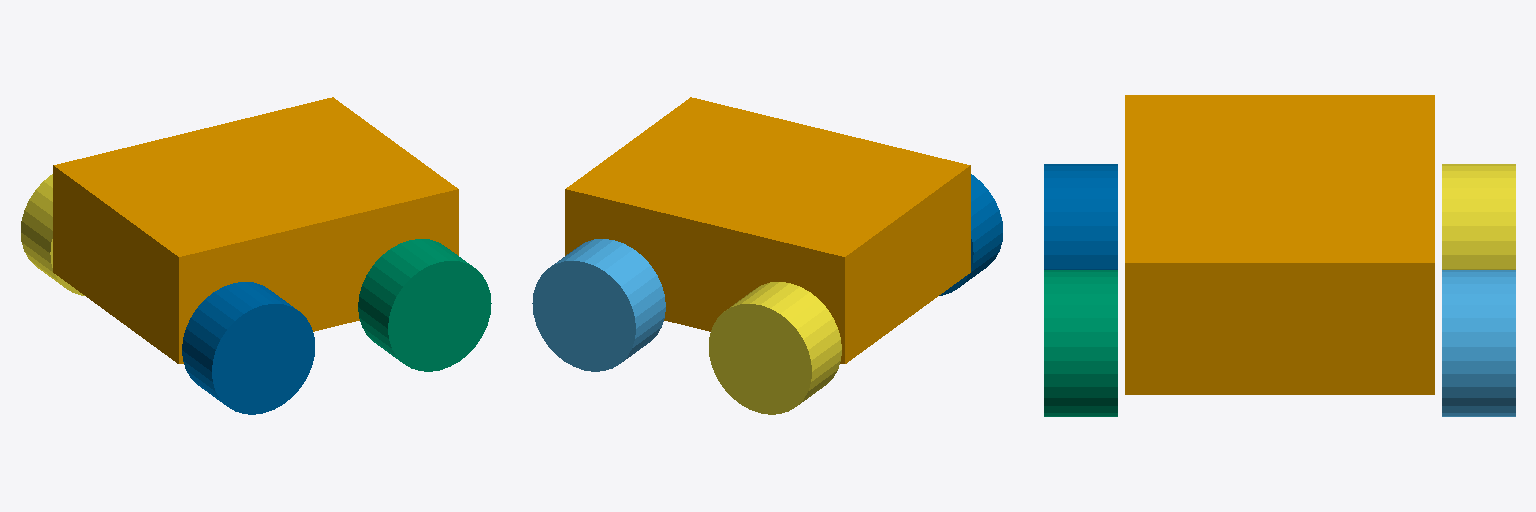
robot.urdf — rosbot_xl:
<?xml version="1.0"?>
<robot name="rosbot_xl">
  <link name="base_link">
    <visual>
      <origin xyz="0 0 0.082" rpy="0 0 0"/>
      <geometry><box size="0.27 0.21 0.099"/></geometry>
    </visual>
  </link>

  <joint name="fl_wheel_joint" type="continuous">
    <parent link="base_link"/>
    <child link="front_left_wheel"/>
    <axis xyz="0 1 0"/>
    <origin xyz="0.085 0.135 0.048" rpy="0 0 0"/>
  </joint>
  <link name="front_left_wheel">
    <visual>
      <origin xyz="0 0 0" rpy="-1.5708 0 0"/>
      <geometry><cylinder radius="0.05" length="0.05"/></geometry>
    </visual>
  </link>

  <joint name="fr_wheel_joint" type="continuous">
    <parent link="base_link"/>
    <child link="front_right_wheel"/>
    <axis xyz="0 1 0"/>
    <origin xyz="0.085 -0.135 0.048" rpy="0 0 0"/>
  </joint>
  <link name="front_right_wheel">
    <visual>
      <origin xyz="0 0 0" rpy="-1.5708 0 0"/>
      <geometry><cylinder radius="0.05" length="0.05"/></geometry>
    </visual>
  </link>

  <joint name="rl_wheel_joint" type="continuous">
    <parent link="base_link"/>
    <child link="rear_left_wheel"/>
    <axis xyz="0 1 0"/>
    <origin xyz="-0.085 0.135 0.048" rpy="0 0 0"/>
  </joint>
  <link name="rear_left_wheel">
    <visual>
      <origin xyz="0 0 0" rpy="-1.5708 0 0"/>
      <geometry><cylinder radius="0.05" length="0.05"/></geometry>
    </visual>
  </link>

  <joint name="rr_wheel_joint" type="continuous">
    <parent link="base_link"/>
    <child link="rear_right_wheel"/>
    <axis xyz="0 1 0"/>
    <origin xyz="-0.085 -0.135 0.048" rpy="0 0 0"/>
  </joint>
  <link name="rear_right_wheel">
    <visual>
      <origin xyz="0 0 0" rpy="-1.5708 0 0"/>
      <geometry><cylinder radius="0.05" length="0.05"/></geometry>
    </visual>
  </link>

  <joint name="laser_joint" type="fixed">
    <parent link="base_link"/>
    <child link="laser_link"/>
    <origin xyz="0.1 0 0.16" rpy="0 0 0"/>
  </joint>
  <link name="laser_link"/>

  <webots>
    <plugin type="webots_pkg_sim.swerve_driver.RobotDriverSwerve"/>
  </webots>
</robot>

--- Facts derived from the render (not from the file) ---
The picture shows the robot from 3 angles, left to right: view 1: azimuth 30°, elevation 25°; view 2: azimuth 150°, elevation 25°; view 3: azimuth 270°, elevation 25°; orthographic projection.
Robot: rosbot_xl — 6 links, 5 joints (4 continuous, 1 fixed); root link base_link; default pose: every joint at zero.
Links seen in each view (by area): view 1: base_link, front_right_wheel, rear_right_wheel, rear_left_wheel; view 2: base_link, front_left_wheel, rear_left_wheel, rear_right_wheel; view 3: base_link, front_left_wheel, front_right_wheel, rear_left_wheel, rear_right_wheel.
Boxes of the visible links, box(x1,y1,x2,y2) form: base_link: box(53, 97, 458, 363); front_right_wheel: box(358, 239, 491, 371); rear_right_wheel: box(182, 282, 314, 414); rear_left_wheel: box(21, 174, 84, 295); base_link: box(565, 97, 970, 363); front_left_wheel: box(532, 239, 665, 371); rear_left_wheel: box(709, 282, 841, 414); rear_right_wheel: box(939, 174, 1002, 295); base_link: box(1125, 95, 1434, 394); front_left_wheel: box(1442, 270, 1515, 416); front_right_wheel: box(1044, 270, 1117, 416); rear_left_wheel: box(1442, 164, 1515, 269); rear_right_wheel: box(1044, 164, 1117, 269).
Bounding box of the posed robot: 0.27 × 0.32 × 0.1335 m (x, y, z).
Geometry: primitives only (box / cylinder / sphere), no mesh files.
